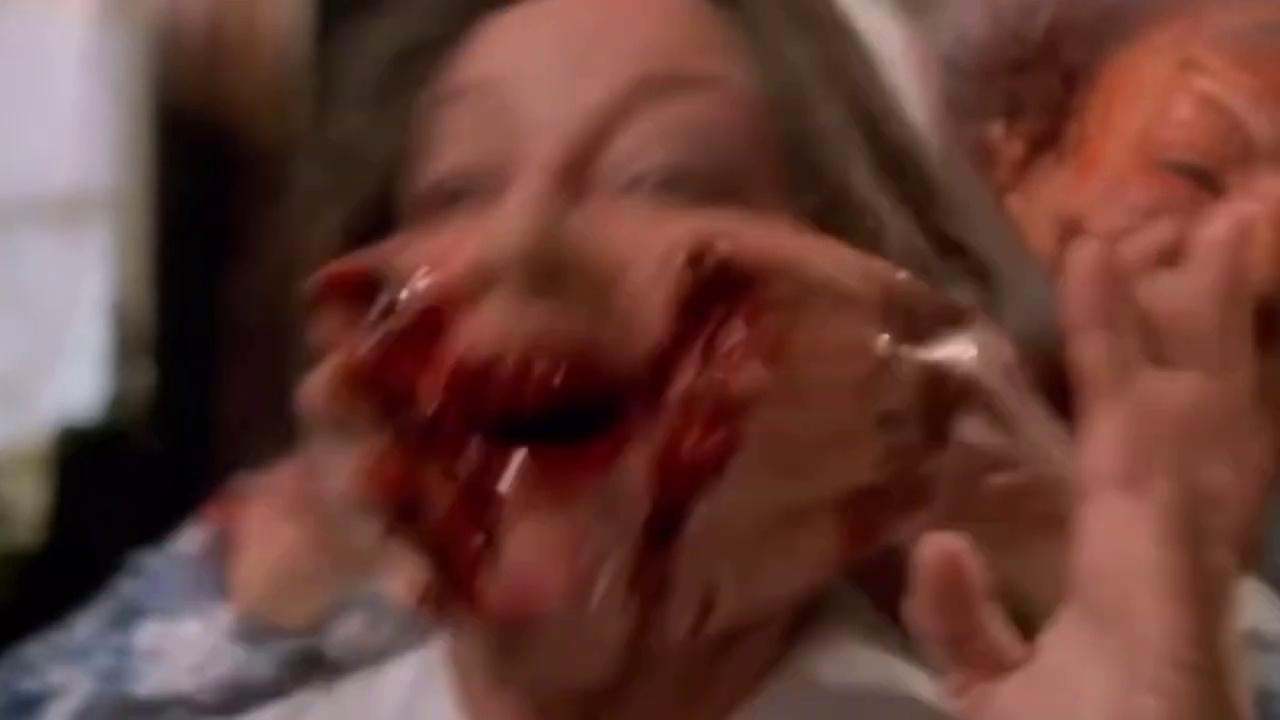Fire: (286, 231, 976, 720)
